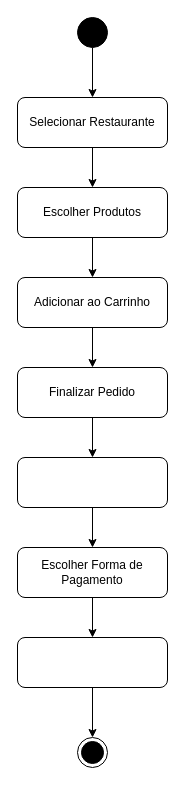
The diagram is 185 pixels wide and 785 high, and some of its shapes have lost their labels. Each missing label, with the centre of its shape:
Confirmar Pedido: pixel 92 662
Informar Endereço: pixel 92 482
